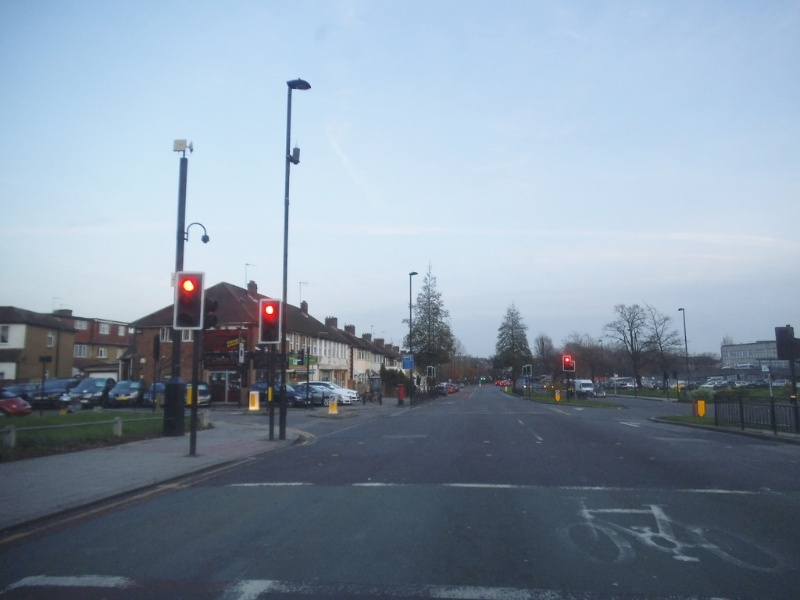red_light: (250, 296, 284, 341), (176, 272, 207, 313), (557, 350, 579, 374)
